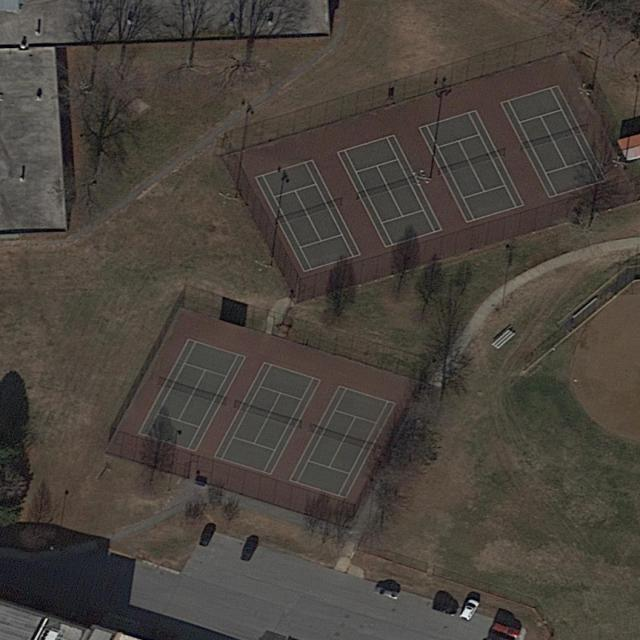small-vehicle: (491, 619, 524, 640), (459, 598, 481, 622), (239, 539, 260, 563), (432, 601, 459, 618), (197, 525, 217, 547), (375, 586, 400, 601)
